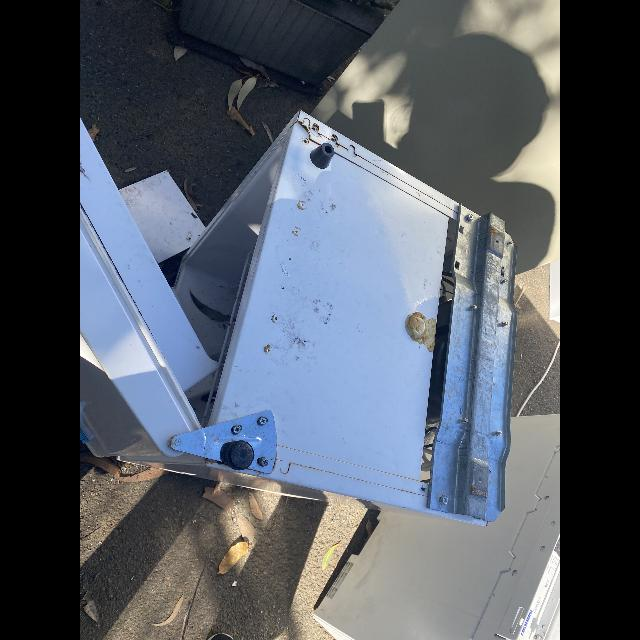Ferrous Metal: (117, 109, 487, 525), (312, 0, 560, 276), (313, 415, 560, 640), (80, 118, 223, 393), (80, 223, 201, 462), (549, 260, 560, 322), (467, 214, 473, 220)
Galvanized Steel: (427, 206, 517, 521), (171, 410, 276, 474)
